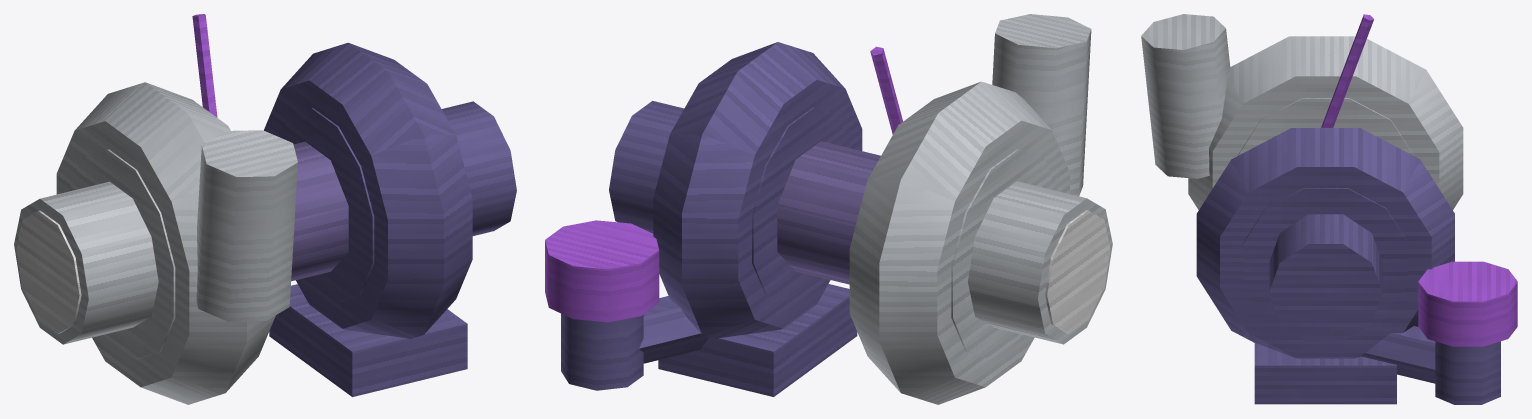
File: turbo_n5.glb
The picture shows the model from 3 angles, left to right: view 1: azimuth 30°, elevation 25°; view 2: azimuth 150°, elevation 25°; view 3: azimuth 270°, elevation 25°; orthographic projection. The views are drawn at different scales.
Visible parts, largest first — view 1: turbo_n5; view 2: turbo_n5; view 3: turbo_n5.
Boxes of the visible parts, box(x1,y1,x2,y2) form: turbo_n5: box(14, 14, 516, 404); turbo_n5: box(545, 14, 1112, 404); turbo_n5: box(1141, 14, 1517, 404).
Size of the model in its own units: 0.428 by 0.3331 by 0.3708.
2 materials, 2 textured.
